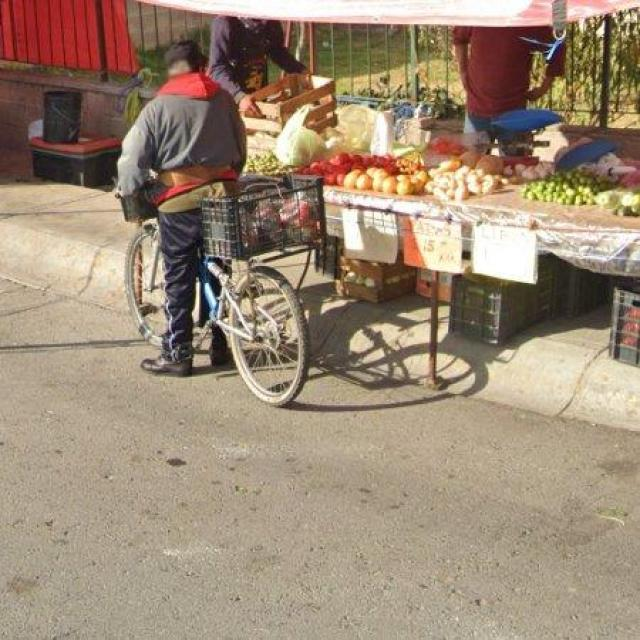bicycle: (196, 257, 311, 407), (126, 223, 166, 346)
